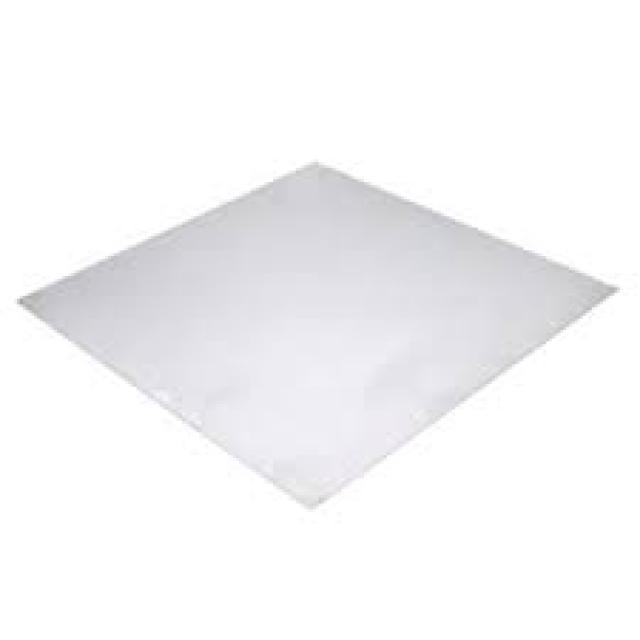Dry Waste: (17, 162, 620, 512)
